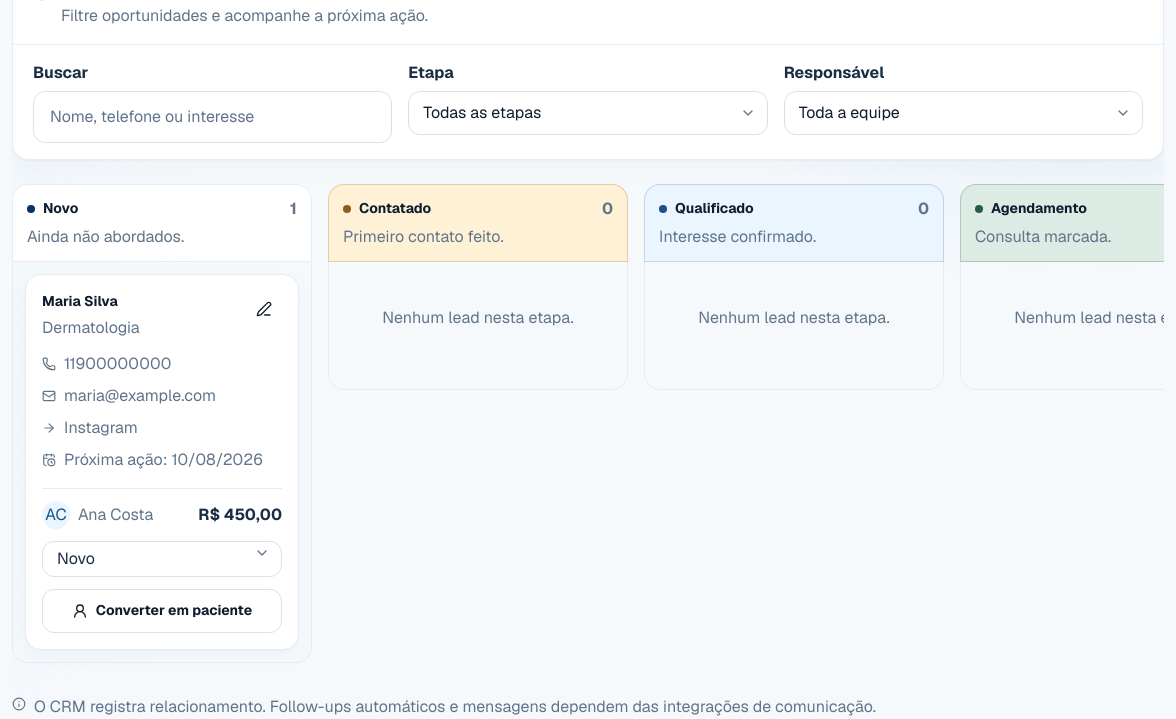
it: conversão em paciente › a recusa aparece na tela, e não navega
(page scrolled)
Click the button "Converter em paciente" at (162, 611), box x1=42 y1=589 x2=282 y2=633
(page scrolled)
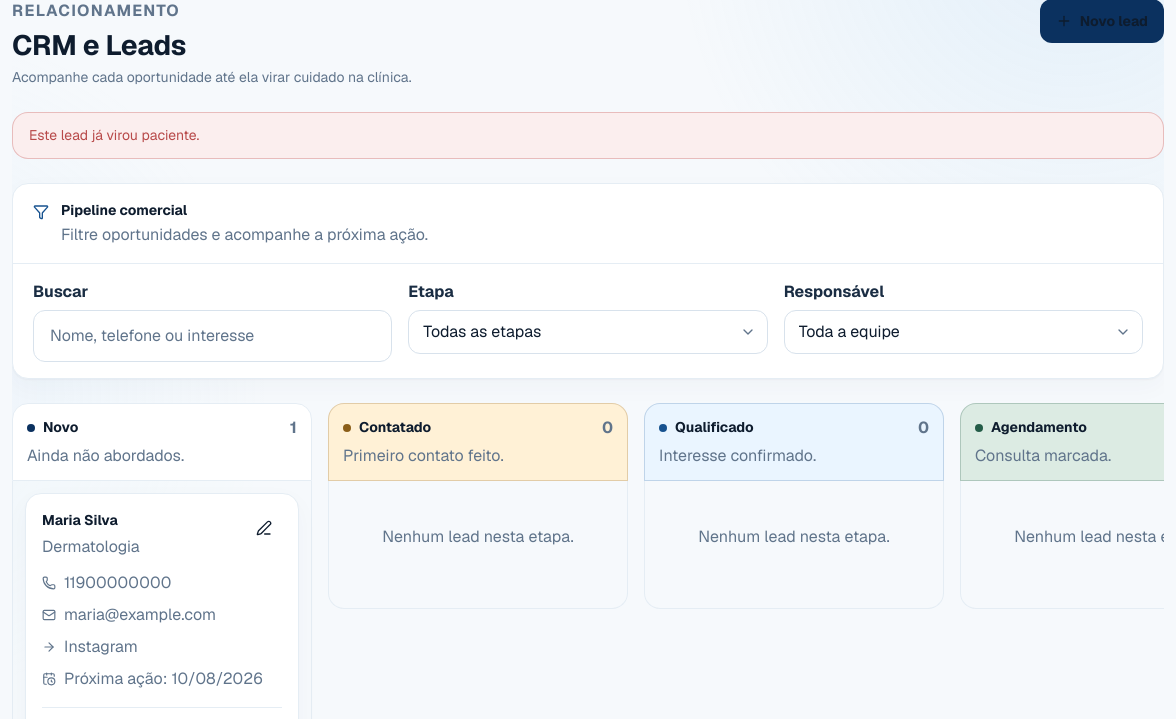
Expected: the text "Este lead já virou paciente." is shown, x1=12 y1=112 x2=1164 y2=159
